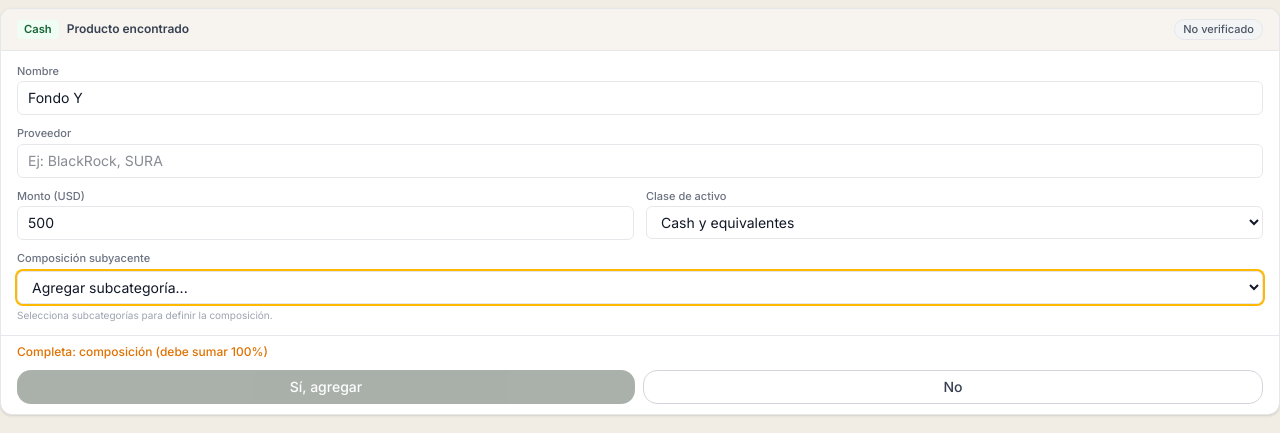
Test: ProposeProductCard confirm and reject actions › reject always sends the rejection text, even for an incomplete card
Click the button "No" at (953, 387), box [643, 370, 1263, 404]
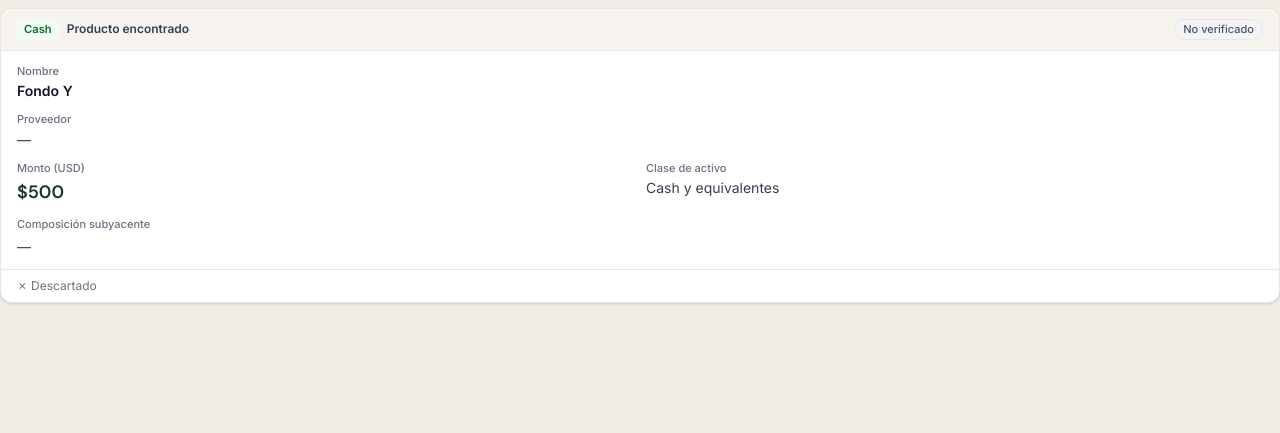
Check: the text "✗ Descartado" is shown, box [1, 269, 1279, 302]
